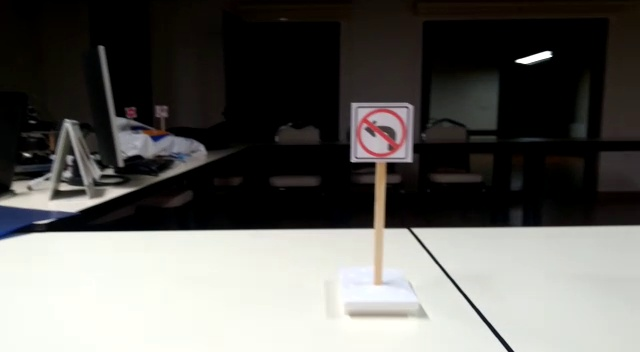sola_donulmez: (355, 102, 411, 156)
